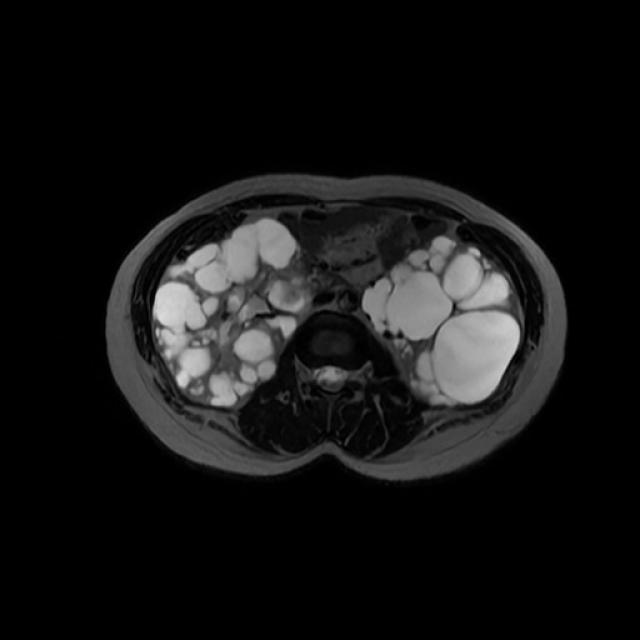sag: (157, 221, 310, 407)
sol: (364, 236, 522, 403)
